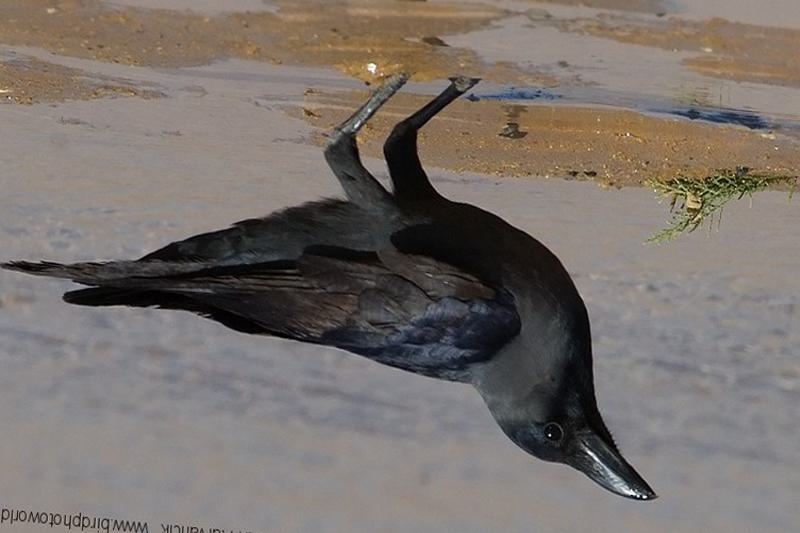crow: (51, 65, 671, 508)
